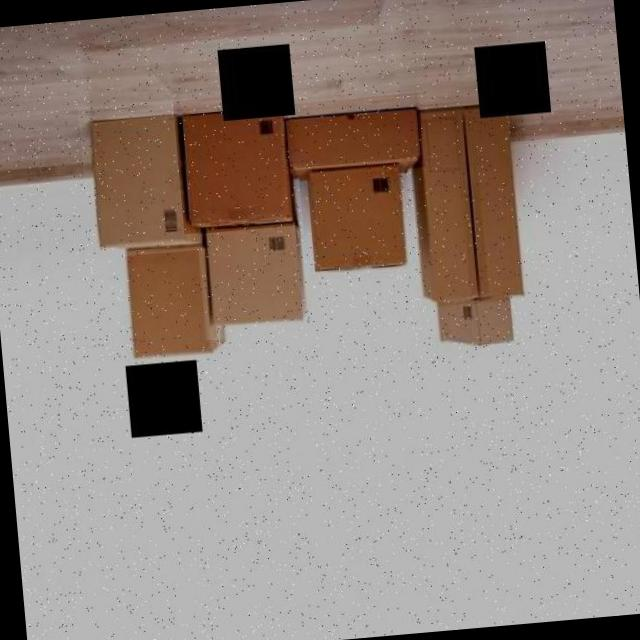box: (399, 70, 539, 308), (77, 98, 202, 258), (172, 92, 297, 234), (298, 166, 417, 292), (117, 232, 226, 369), (196, 214, 310, 340), (286, 91, 424, 178), (435, 282, 528, 373)
